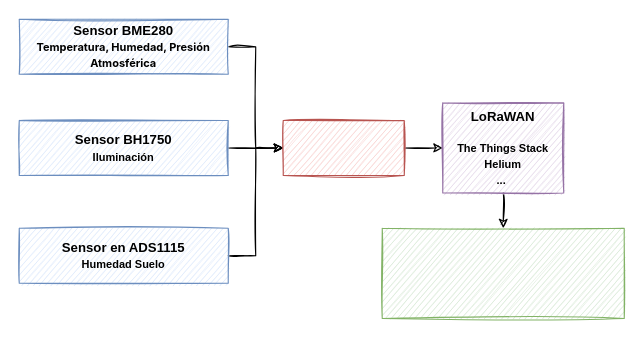
This 644x338 diagram has some shape labels left out. Here are the shapes that lost their labels. From the top down, the centre of each, then its label:
(x=343, y=147): CubeCell htcc-ab01
(x=502, y=272): Integración Almacenamiento y visualización de datos
